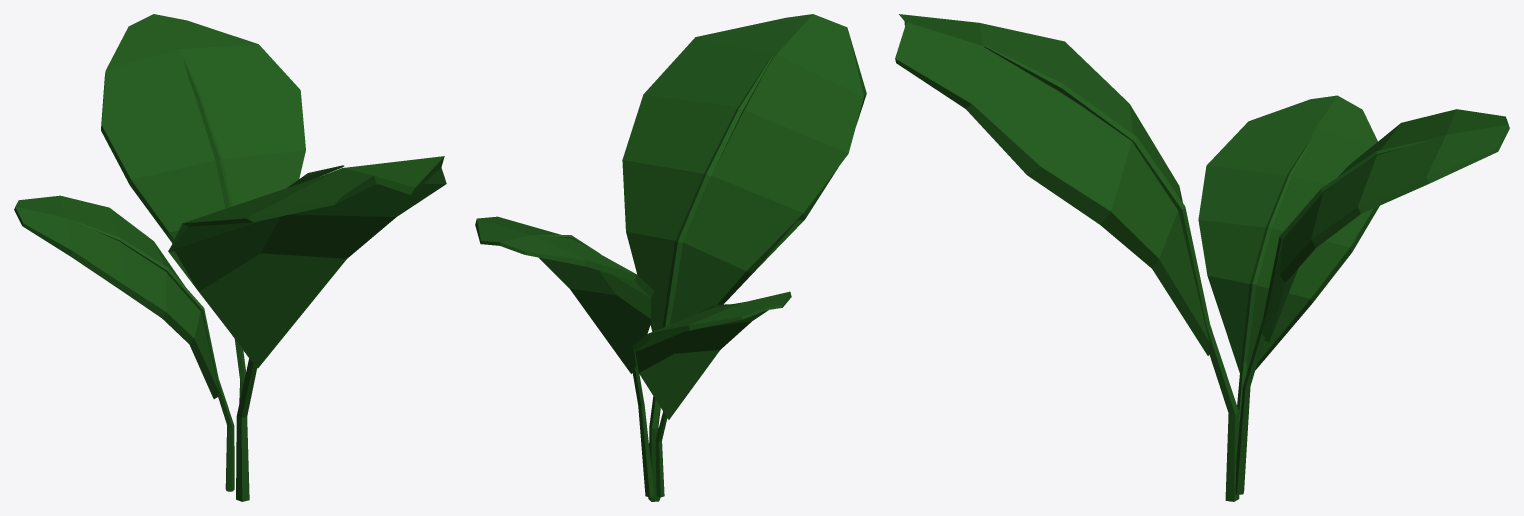
The model's file is plant1.glb.
3 views of the same model, side by side, from view 1: azimuth 30°, elevation 25°; view 2: azimuth 150°, elevation 25°; view 3: azimuth 270°, elevation 25° (orthographic). The views are drawn at different scales.
Parts seen in each view (by area): view 1: plant3; view 2: plant3; view 3: plant3.
Part boxes in pixels (x1,y1,x2,y2): plant3: (14,14,446,501); plant3: (475,14,866,501); plant3: (895,14,1509,501).
Bounding box in the file's own units: 1.05 × 1.48 × 1.77.
